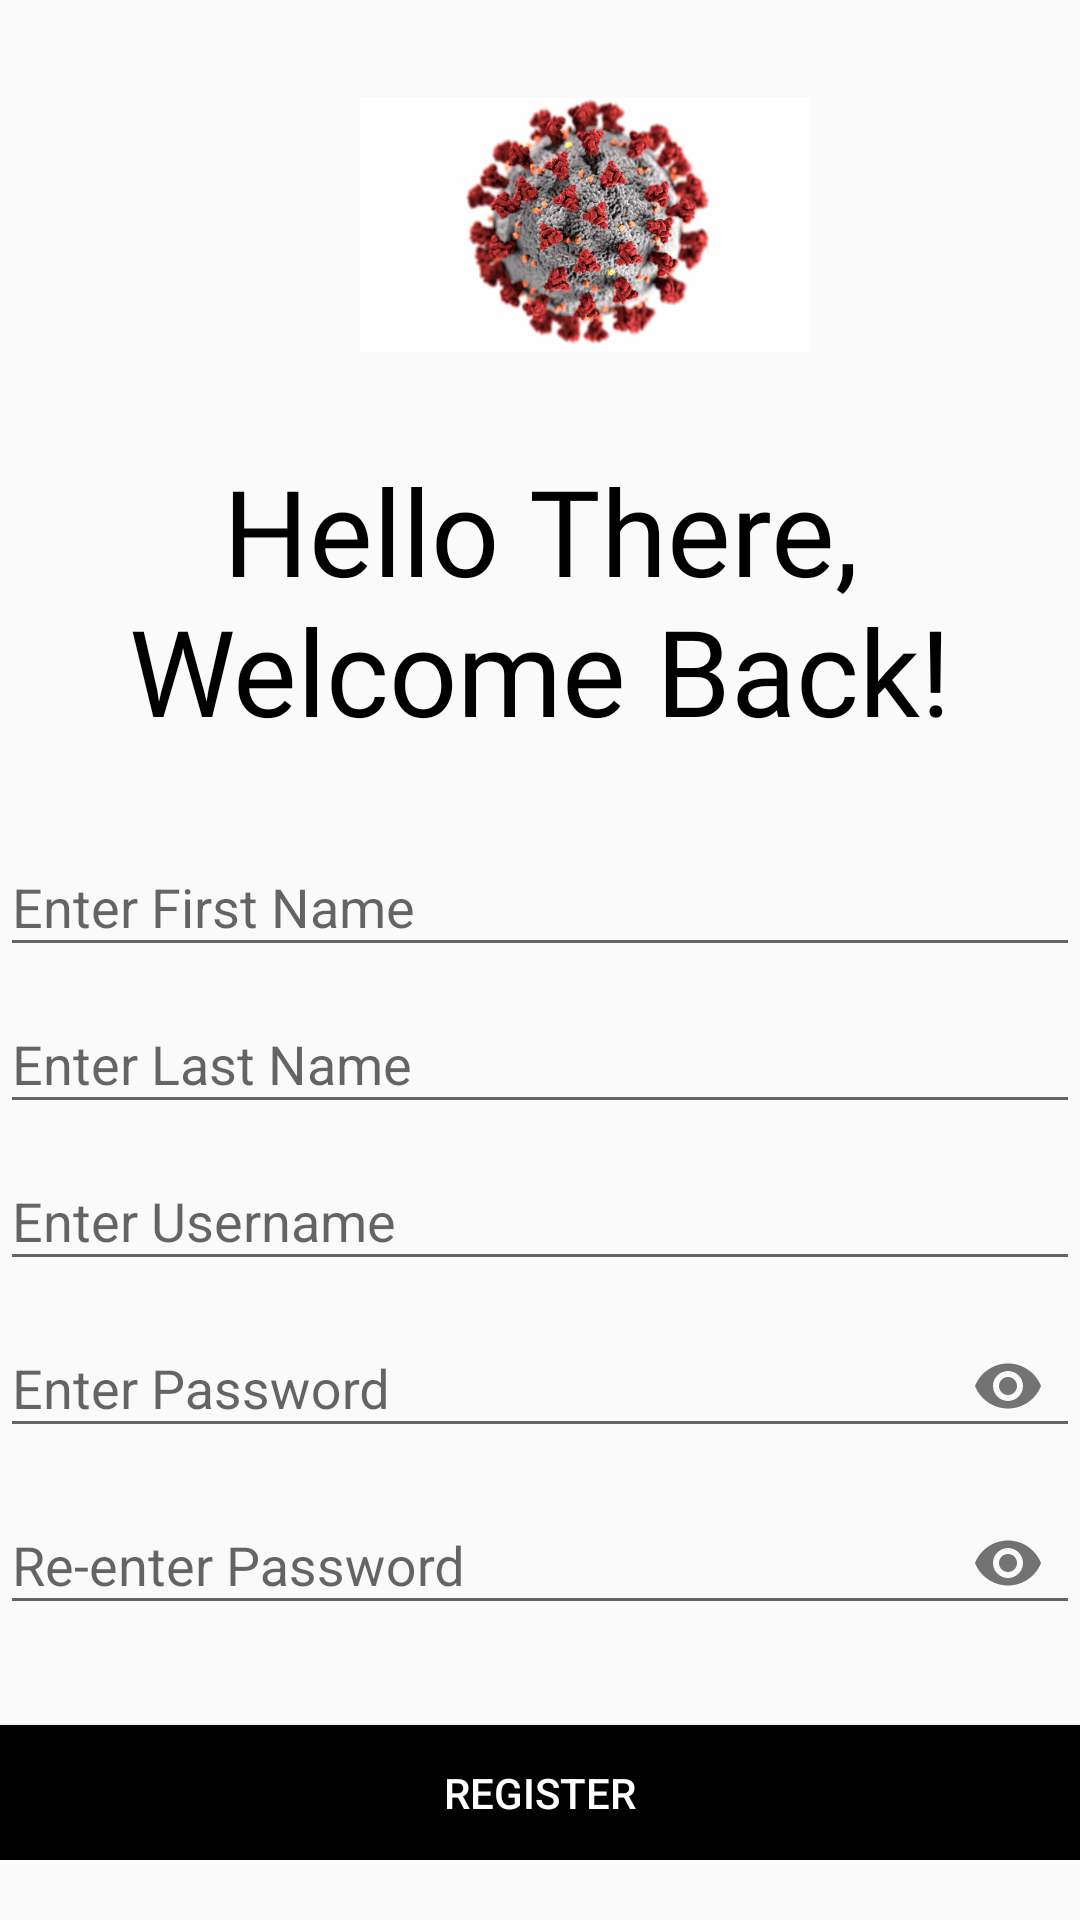

Where to tap for icons on this 1080 x 1920 app screen, as (x=x, y=y):
covid: (x=587, y=221)
